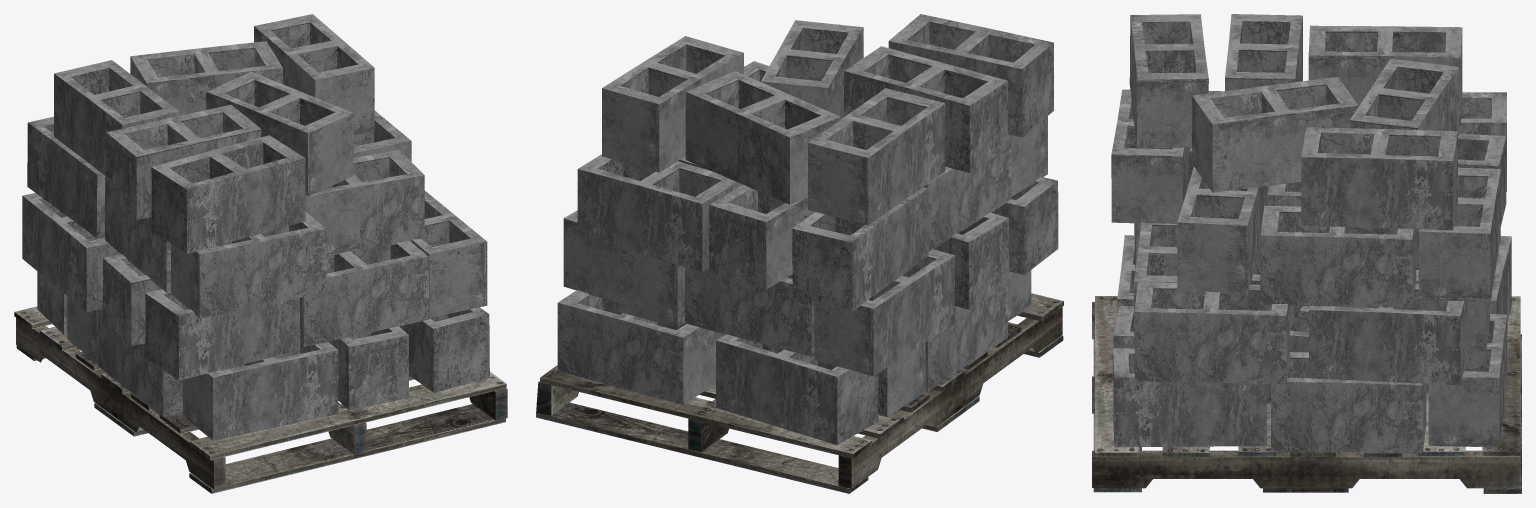
Rendered from Conctereblock01.FBX.
3 renders of one model, left to right at view 1: azimuth 30°, elevation 25°; view 2: azimuth 150°, elevation 25°; view 3: azimuth 270°, elevation 25°, orthographic. The views are drawn at different scales.
Parts seen in each view (by area): view 1: Conctereblock01, Conctereblock01Pallet; view 2: Conctereblock01, Conctereblock01Pallet; view 3: Conctereblock01, Conctereblock01Pallet.
Part boxes in pixels (x1,y1,x2,y2): Conctereblock01: (22, 14, 489, 440); Conctereblock01Pallet: (14, 306, 507, 493); Conctereblock01: (557, 14, 1058, 445); Conctereblock01Pallet: (536, 293, 1063, 493); Conctereblock01: (1111, 14, 1511, 453); Conctereblock01Pallet: (1092, 296, 1521, 493).
Bounding box in the file's own units: 71.6 × 63.79 × 78.15.
